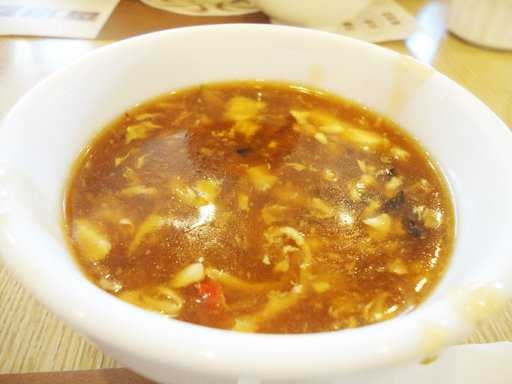soup: (55, 62, 454, 310)
